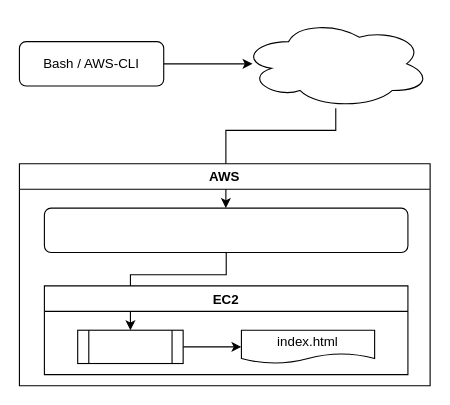
Image size: 450x405. Some labels were removed from this diagram. Each missing label, with the centre of its shape:
ELB: the point at 225,230
NGINX: the point at 130,346
